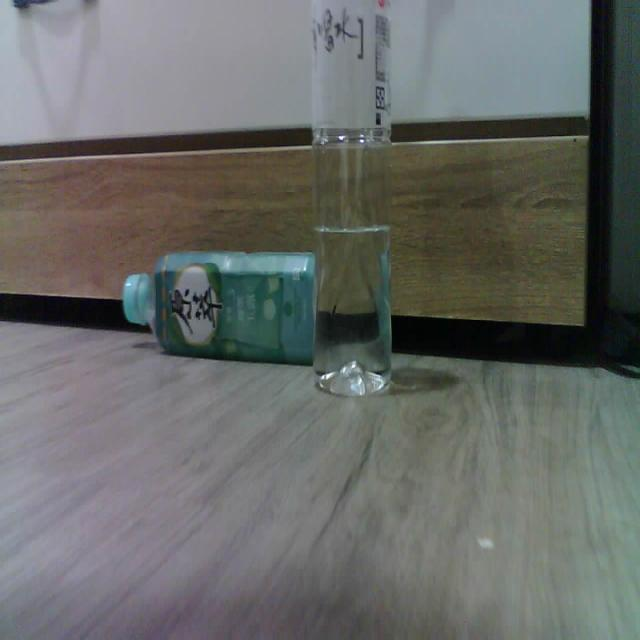bottle: (310, 0, 391, 395), (122, 251, 314, 364)
